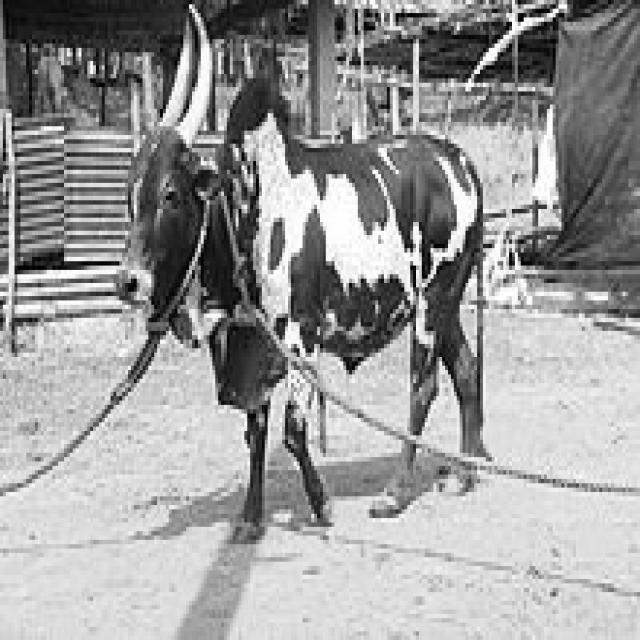Cow: (80, 0, 514, 462)
